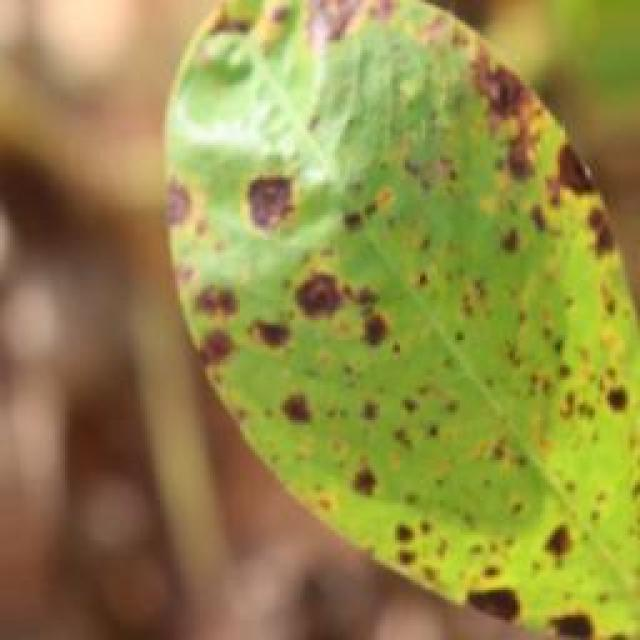Yellowish: (138, 0, 638, 634)
